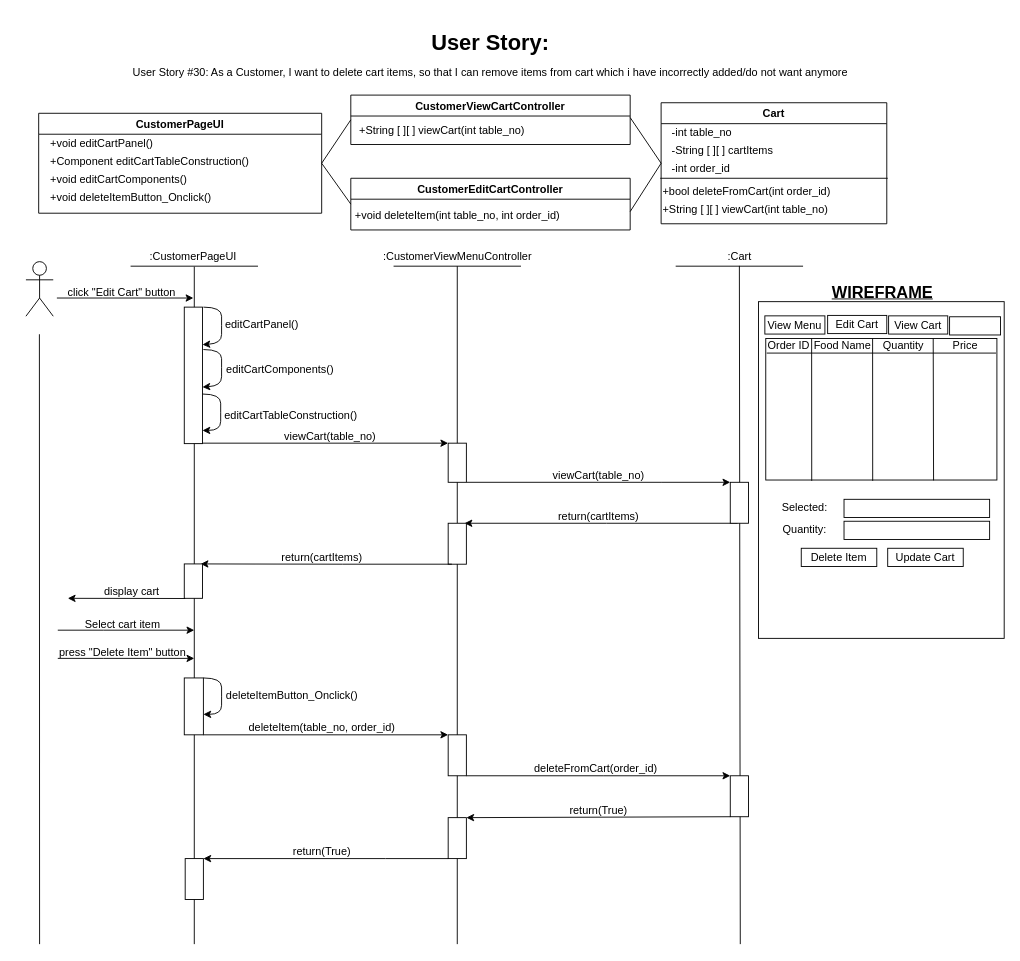
This 1020x961 diagram has some shape labels left out. Each missing label, with the centre of its shape:
"Customer" goes at point (39, 288).
"Payment" goes at point (975, 325).
